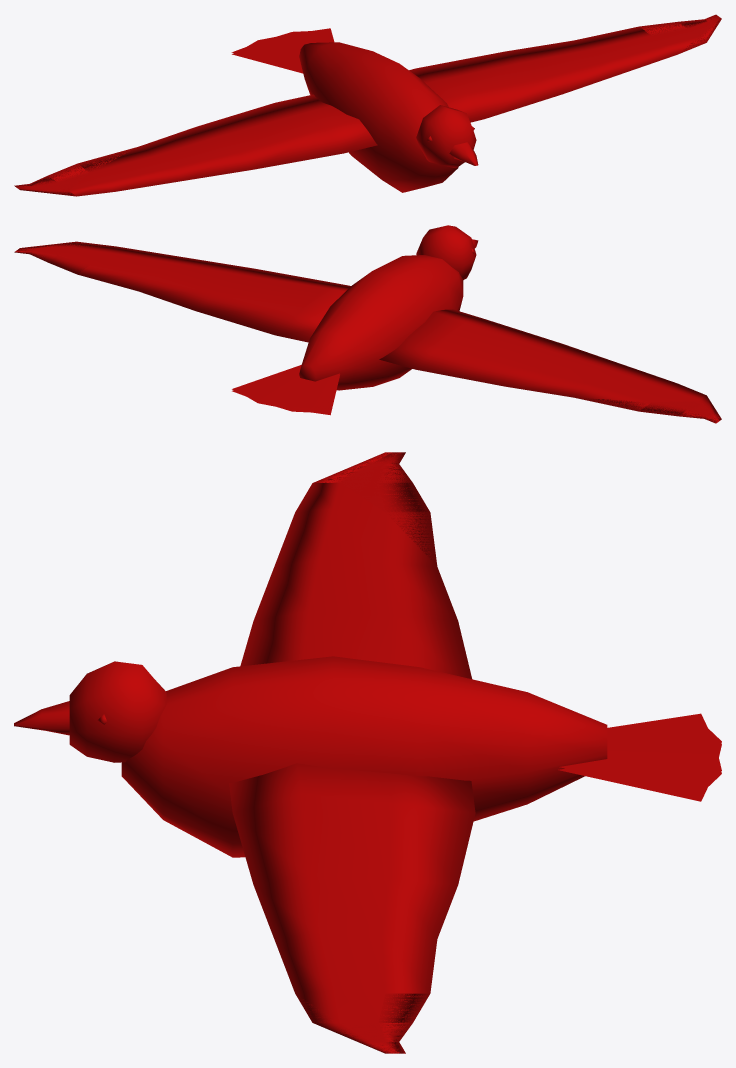
Rendered from goose.glb.
3 views of the same model, one above another, from view 1: azimuth 30°, elevation 25°; view 2: azimuth 150°, elevation 25°; view 3: azimuth 270°, elevation 25° (orthographic). The views are drawn at different scales.
Visible parts, largest first — view 1: wing, body; view 2: wing, body; view 3: wing, body.
Boxes of the visible parts, left/top/right/bottom form: wing: left=14, top=14, right=721, bottom=196; body: left=231, top=28, right=478, bottom=192; wing: left=14, top=241, right=721, bottom=423; body: left=232, top=225, right=478, bottom=415; wing: left=229, top=452, right=475, bottom=1053; body: left=14, top=656, right=721, bottom=857.
Size of the model in its own units: 1.6 by 0.2305 by 0.7969.
